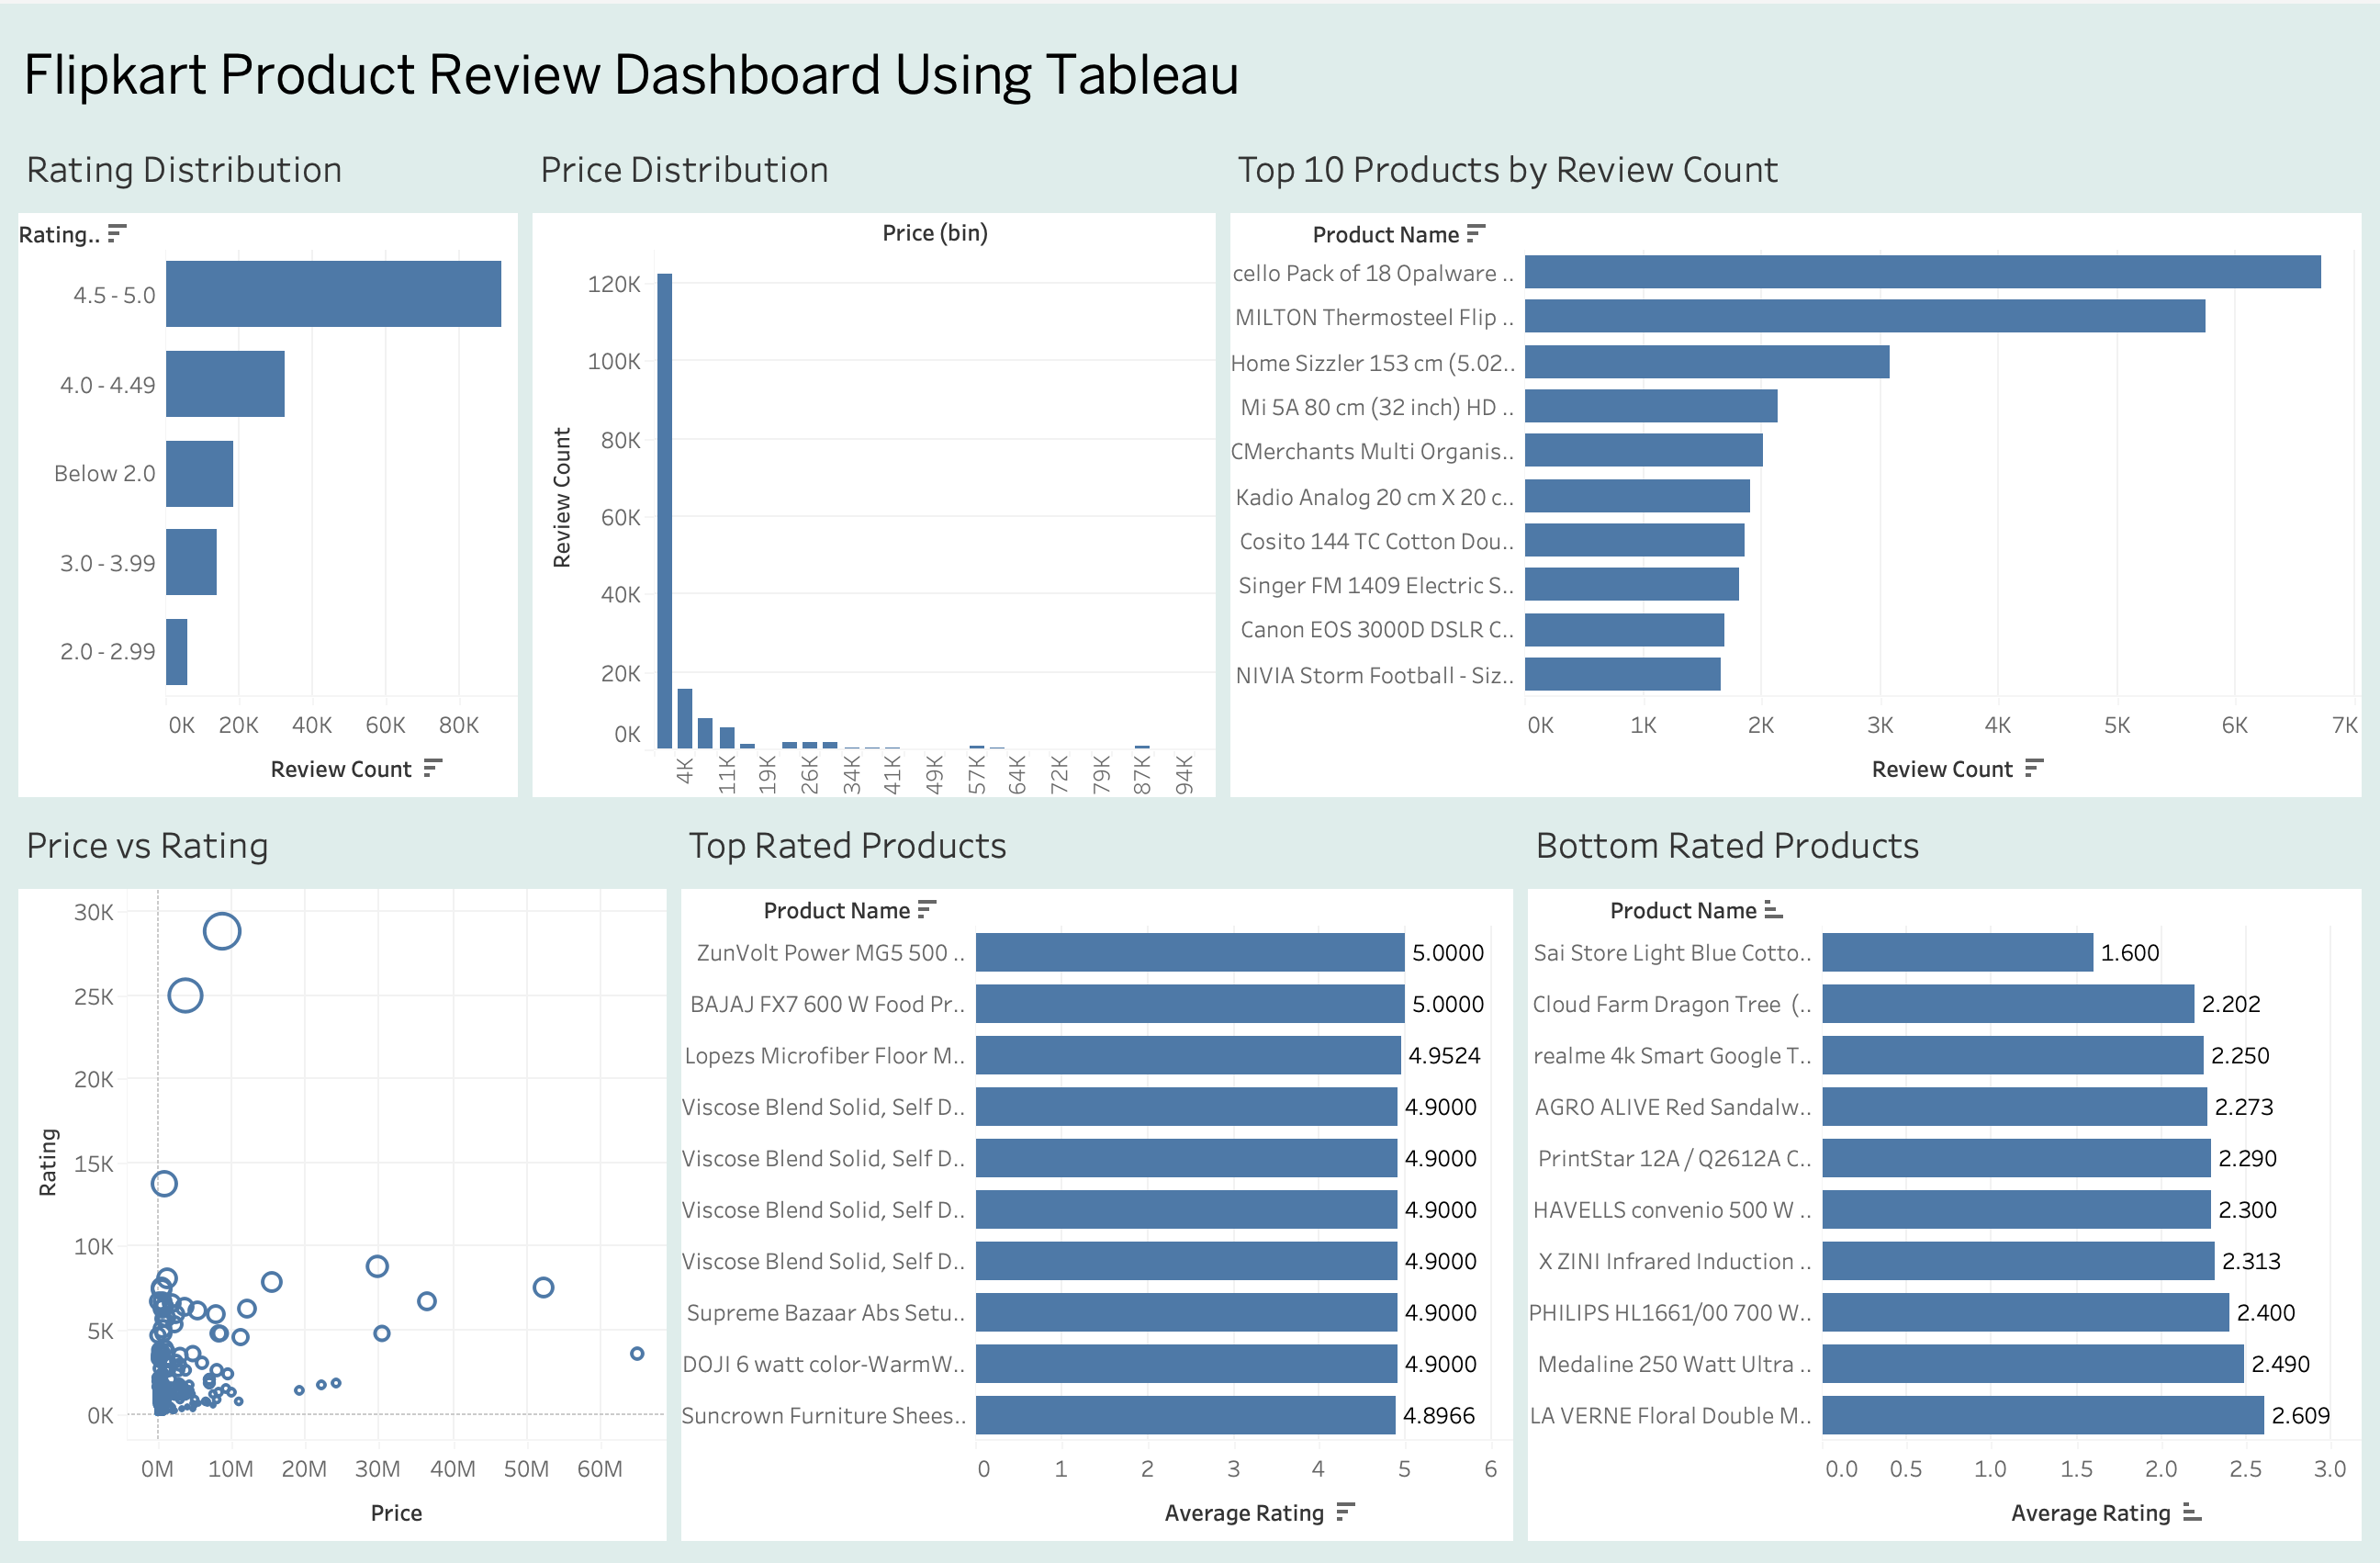

The dashboard page shown, as its layout file describes it:
{"tool":"tableau","page":{"name":"Flipkart Product Review Dashboard","canvas":[1300,850],"ordinal":0},"visuals":[{"type":"title","box":[8,8,1284,60]},{"type":"worksheet","title":"Rating Distribution","mark":"Bar","rows":["Calculation_0298715652616192"],"cols":["flipkart_product_cleaned.csv_2B90165A5D0B48D09DA0513A0EC8957"],"box":[8,68,280,368.4]},{"type":"worksheet","title":"Price Distribution","mark":"Automatic","rows":["flipkart_product_cleaned.csv_2B90165A5D0B48D09DA0513A0EC8957"],"cols":["Price (bin)"],"box":[288,68,380,368.4]},{"type":"worksheet","title":"Top 10 Products by Review Count","mark":"Automatic","rows":["ProductName"],"cols":["flipkart_product_cleaned.csv_2B90165A5D0B48D09DA0513A0EC8957"],"box":[668,68,624,368.4]},{"type":"worksheet","title":"Price vs Rating","mark":"Automatic","rows":["Rate"],"cols":["Price"],"box":[8,436.4,360.7,405.6]},{"type":"worksheet","title":"Top Rated Products","mark":"Bar","rows":["ProductName"],"cols":["Rate"],"box":[368.7,436.4,461.7,405.6]},{"type":"worksheet","title":"Bottom Rated Products","mark":"Bar","rows":["ProductName"],"cols":["Rate"],"box":[830.3,436.4,461.7,405.6]}]}

Visuals, with their boxes in screenshot pixels (x1, y1, x2, y2), scaled from the page's 1300x850 canvas onto the 2380x1563 screenshot:
title: [left=15, top=15, right=2365, bottom=125]
"Rating Distribution" worksheet (Bar marks): [left=15, top=125, right=527, bottom=803]
"Price Distribution" worksheet: [left=527, top=125, right=1223, bottom=803]
"Top 10 Products by Review Count" worksheet: [left=1223, top=125, right=2365, bottom=803]
"Price vs Rating" worksheet: [left=15, top=803, right=675, bottom=1548]
"Top Rated Products" worksheet (Bar marks): [left=675, top=803, right=1521, bottom=1548]
"Bottom Rated Products" worksheet (Bar marks): [left=1520, top=803, right=2365, bottom=1548]
